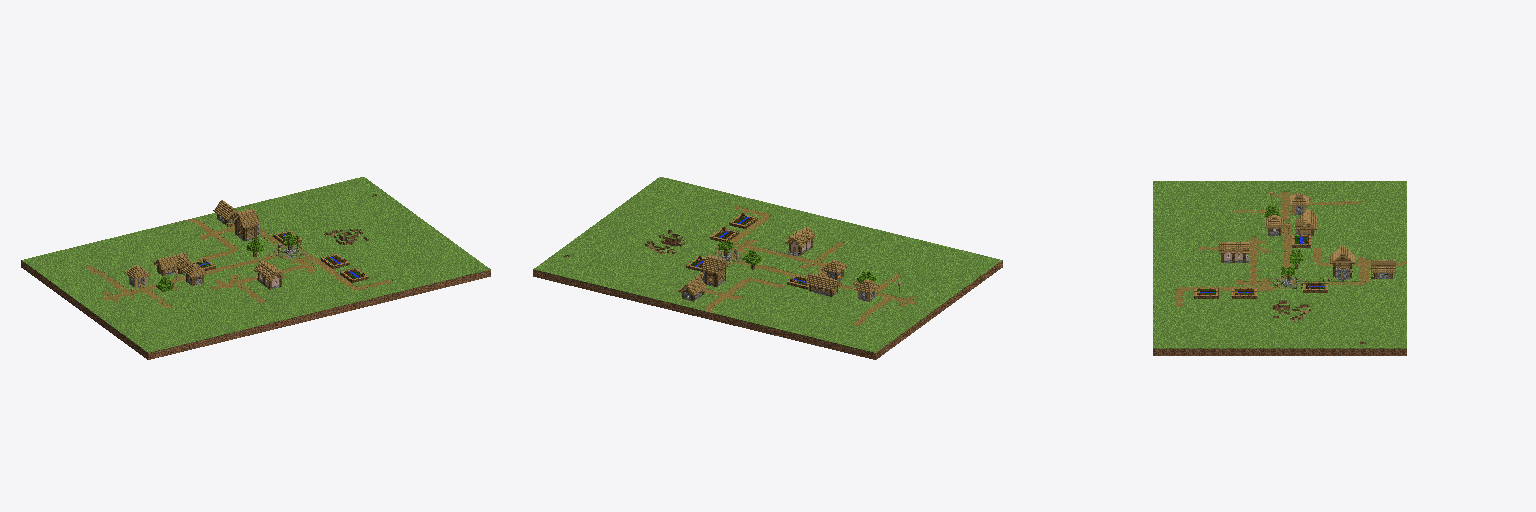
3 renders of one model, left to right at view 1: azimuth 30°, elevation 25°; view 2: azimuth 150°, elevation 25°; view 3: azimuth 270°, elevation 25°, orthographic.
Parts seen in each view (by area): view 1: HS__-29_-63_26_to_115_319_118; view 2: HS__-29_-63_26_to_115_319_118; view 3: HS__-29_-63_26_to_115_319_118.
Boxes of the visible parts, x1,y1,x2,y2 form: HS__-29_-63_26_to_115_319_118: [21, 177, 490, 359]; HS__-29_-63_26_to_115_319_118: [533, 177, 1002, 359]; HS__-29_-63_26_to_115_319_118: [1153, 181, 1406, 355].
Bounding box in the file's own units: 10.36 × 0.9286 × 6.64.
Materials: 40 (1 with a texture image).